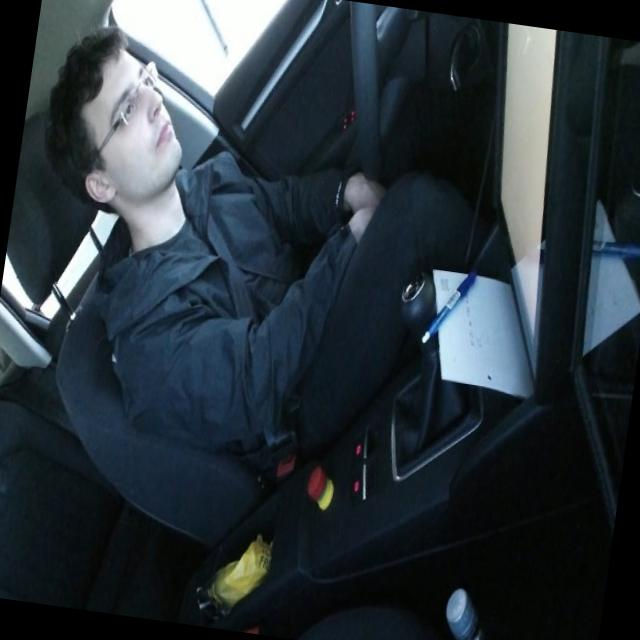pen: (420, 261, 478, 350)
